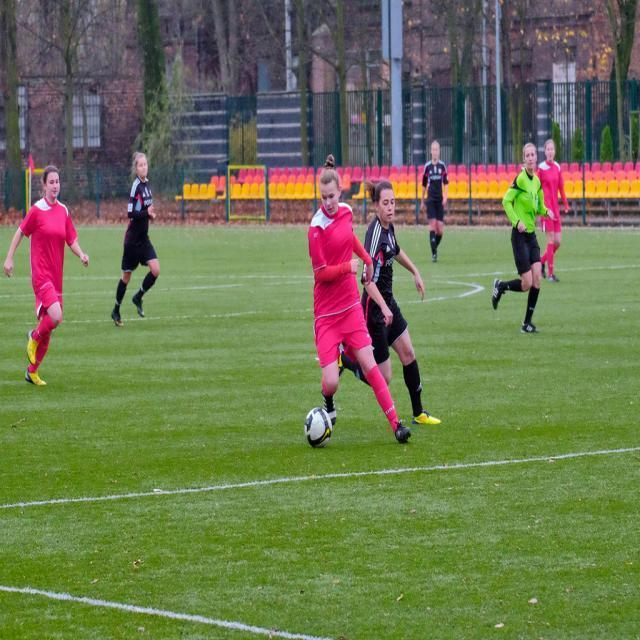football: (285, 394, 352, 464)
